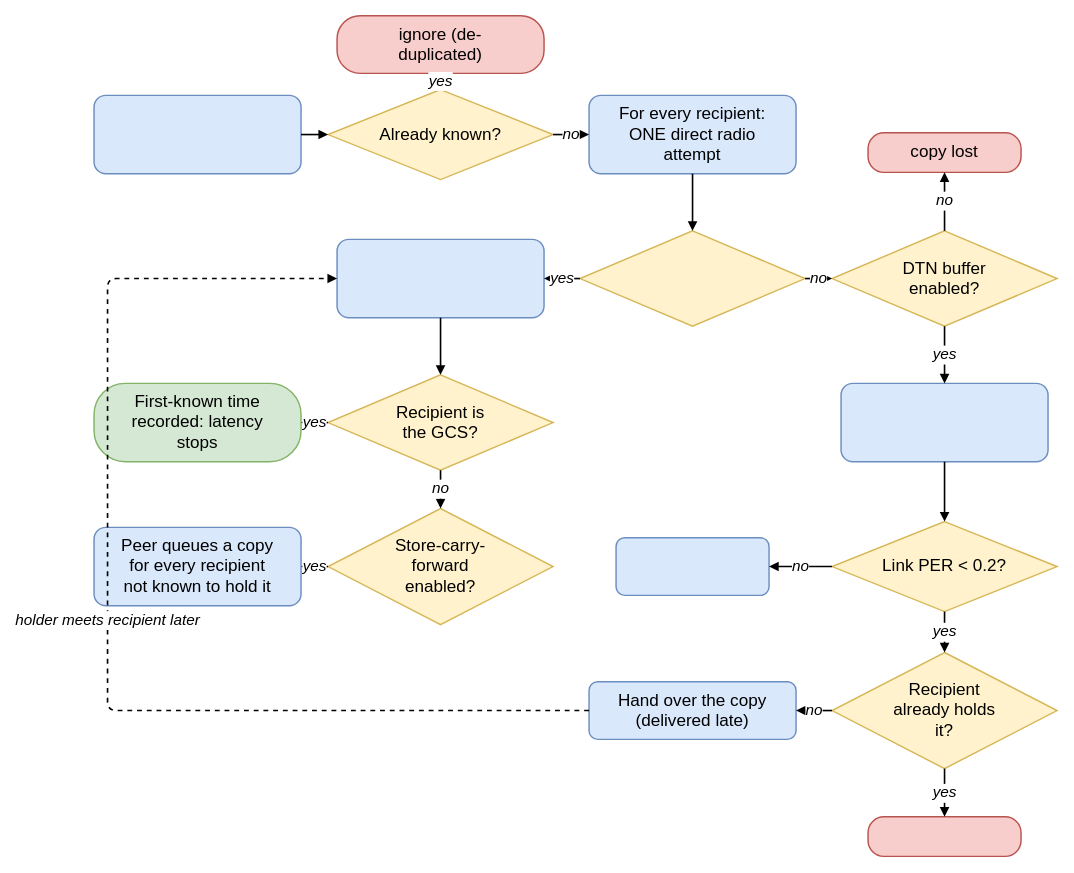
Some shapes in this 1074 by 873 pixel diagram are drawn without their labels. The centre of each missing label's shape, as x and y in pixels:
Delivered? (draw vs. PER): pixel 692 278
discard copy: pixel 944 836
keep carrying: pixel 692 566
QoS-1 buffer per recipient (drop oldest when full): pixel 944 422
Recipient stores the alert and marks it known: pixel 440 278
UAV detects a victim; key = sector, x, y: pixel 197 134
